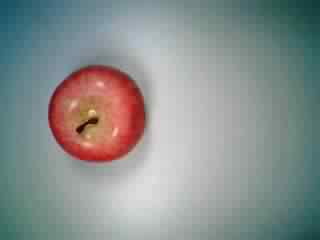apple: (42, 62, 148, 166)
